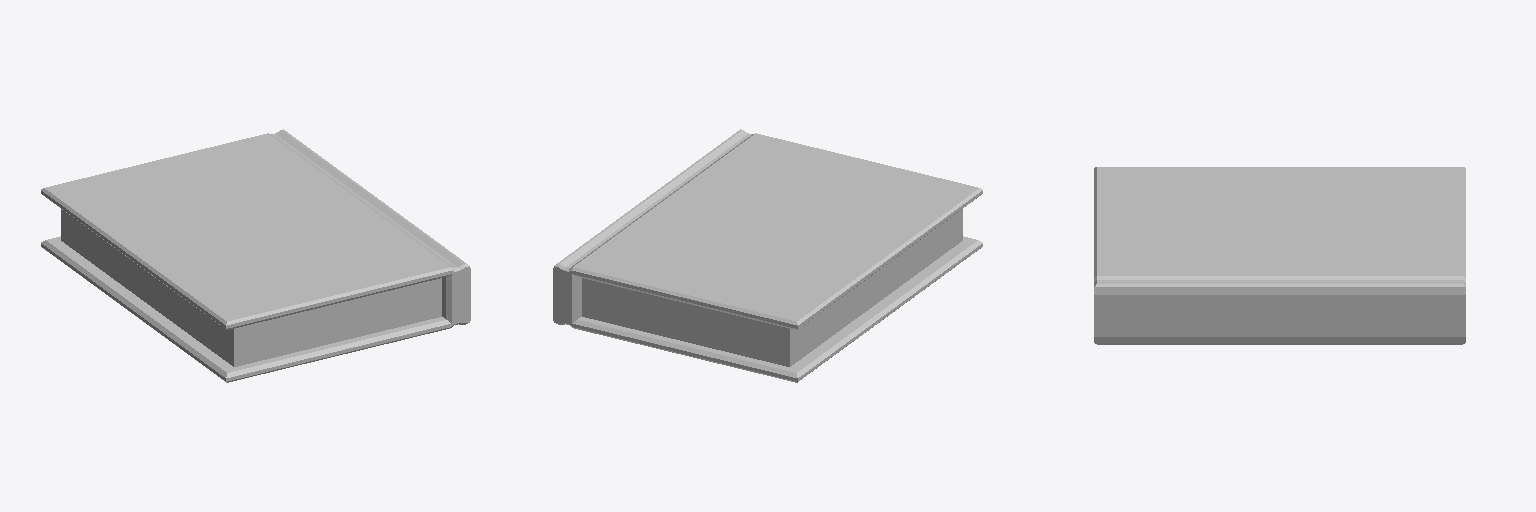
The model's file is Book Export.obj.
The picture shows the model from 3 angles: view 1: azimuth 30°, elevation 25°; view 2: azimuth 150°, elevation 25°; view 3: azimuth 270°, elevation 25°; orthographic projection.
Parts seen in each view (by area): view 1: pCube1; view 2: pCube1; view 3: pCube1.
Part boxes in pixels (bbox=[...]): pCube1: bbox=[41, 129, 470, 382]; pCube1: bbox=[553, 129, 982, 382]; pCube1: bbox=[1094, 167, 1465, 344].
Size of the model in its own units: 4.93 by 1.18 by 6.46.